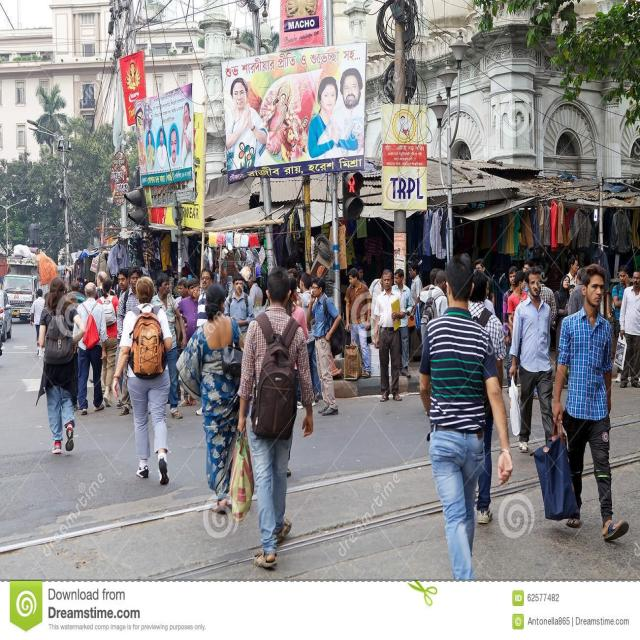body: (417, 252, 514, 581), (530, 263, 630, 542), (229, 264, 314, 571), (175, 282, 250, 516), (228, 64, 364, 165), (113, 275, 173, 486), (466, 268, 508, 525), (35, 276, 86, 456), (508, 267, 555, 451), (305, 276, 347, 416), (150, 272, 188, 421), (284, 273, 310, 479), (72, 281, 108, 417), (373, 266, 407, 402), (115, 268, 143, 418), (138, 102, 194, 176), (94, 276, 120, 409), (344, 267, 372, 379), (614, 269, 640, 388), (89, 270, 116, 384), (299, 270, 319, 404), (413, 268, 444, 348), (391, 267, 412, 378), (612, 265, 632, 381), (418, 270, 449, 340), (115, 268, 132, 395), (502, 265, 519, 388), (223, 272, 256, 334), (526, 266, 558, 329), (506, 269, 530, 348), (175, 278, 202, 343), (407, 261, 423, 362), (554, 274, 570, 373), (473, 257, 496, 309), (368, 274, 384, 344), (196, 268, 214, 330), (567, 267, 586, 316), (30, 288, 46, 342), (172, 277, 191, 310), (560, 256, 580, 287), (247, 274, 264, 309), (66, 280, 86, 306), (126, 60, 140, 94), (350, 265, 368, 287), (28, 216, 40, 249), (484, 277, 494, 316), (35, 335, 46, 361), (66, 291, 78, 310), (522, 258, 534, 274), (295, 282, 302, 306), (460, 252, 472, 266), (288, 266, 299, 278), (522, 262, 532, 274), (567, 284, 575, 296), (44, 290, 50, 299)
